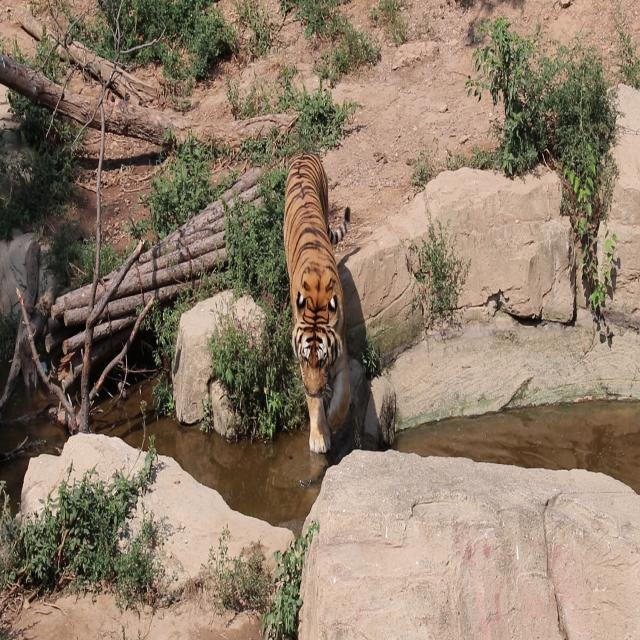Tiger: (279, 136, 367, 452)
